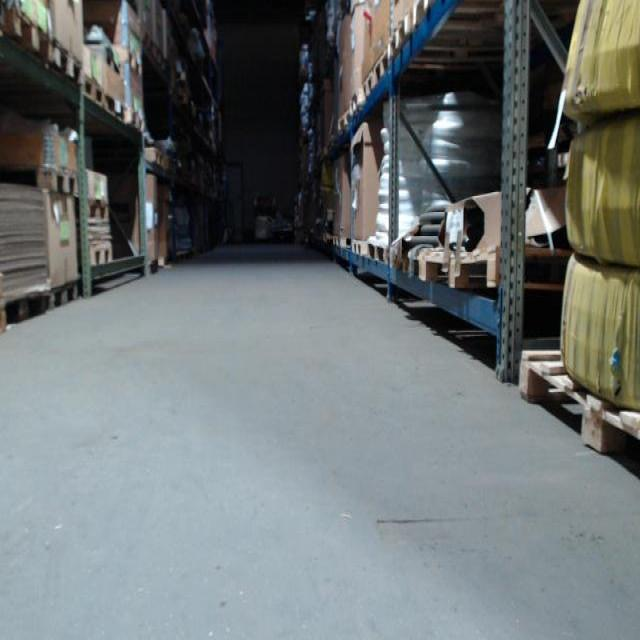pallet: (517, 350, 640, 479), (417, 242, 500, 291), (1, 2, 52, 62), (1, 165, 79, 198), (52, 43, 84, 85), (407, 0, 433, 41), (49, 280, 78, 310), (389, 16, 407, 62), (80, 78, 106, 108), (372, 48, 389, 90), (87, 244, 113, 265), (124, 49, 143, 75), (365, 239, 386, 262), (86, 201, 108, 220), (126, 109, 144, 131), (361, 73, 372, 105), (337, 109, 351, 131), (352, 238, 364, 256)
